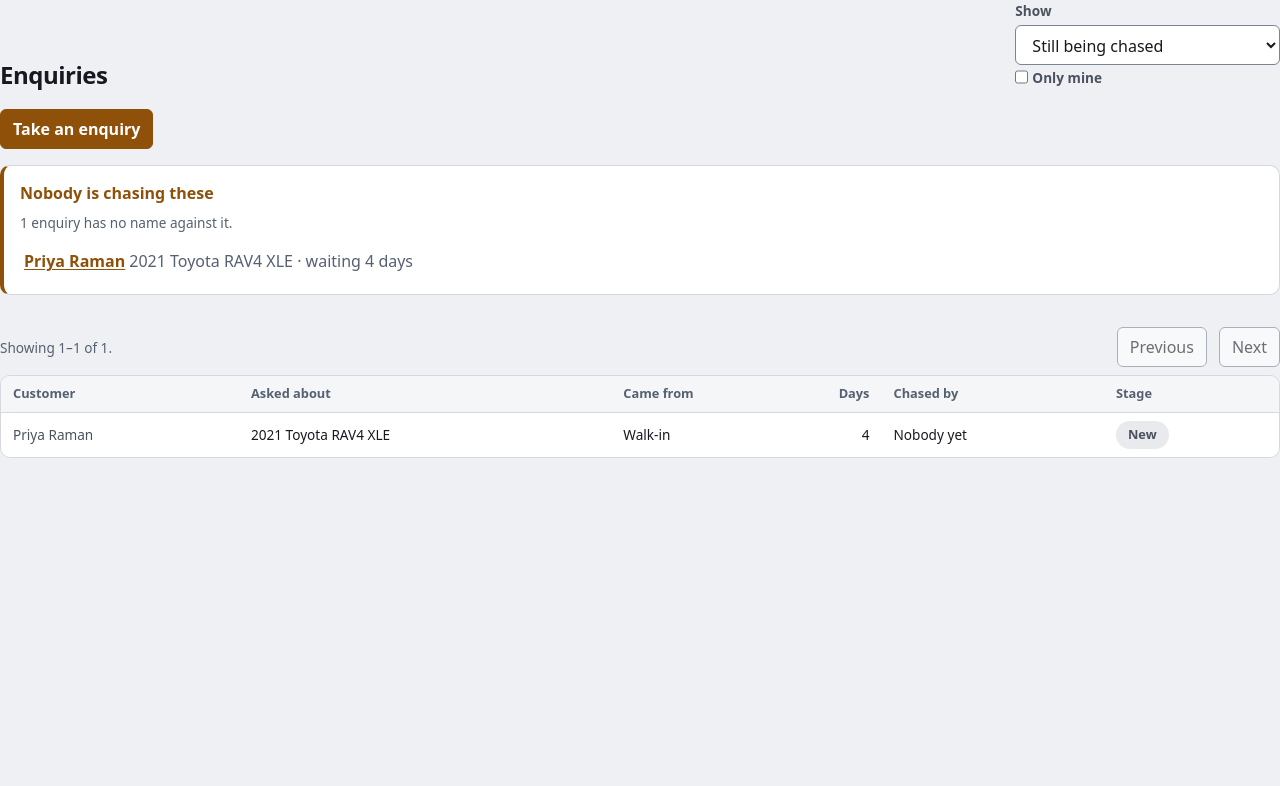
Scenario: handing an enquiry to a named colleague › draws no picker at all when the caller may not read the staff list
Expected: the table is shown, [1,376,1279,457]
Step 1. Click the button "Priya Raman" in the row of "Walk-in" → (120, 435), box [13,423,227,447]
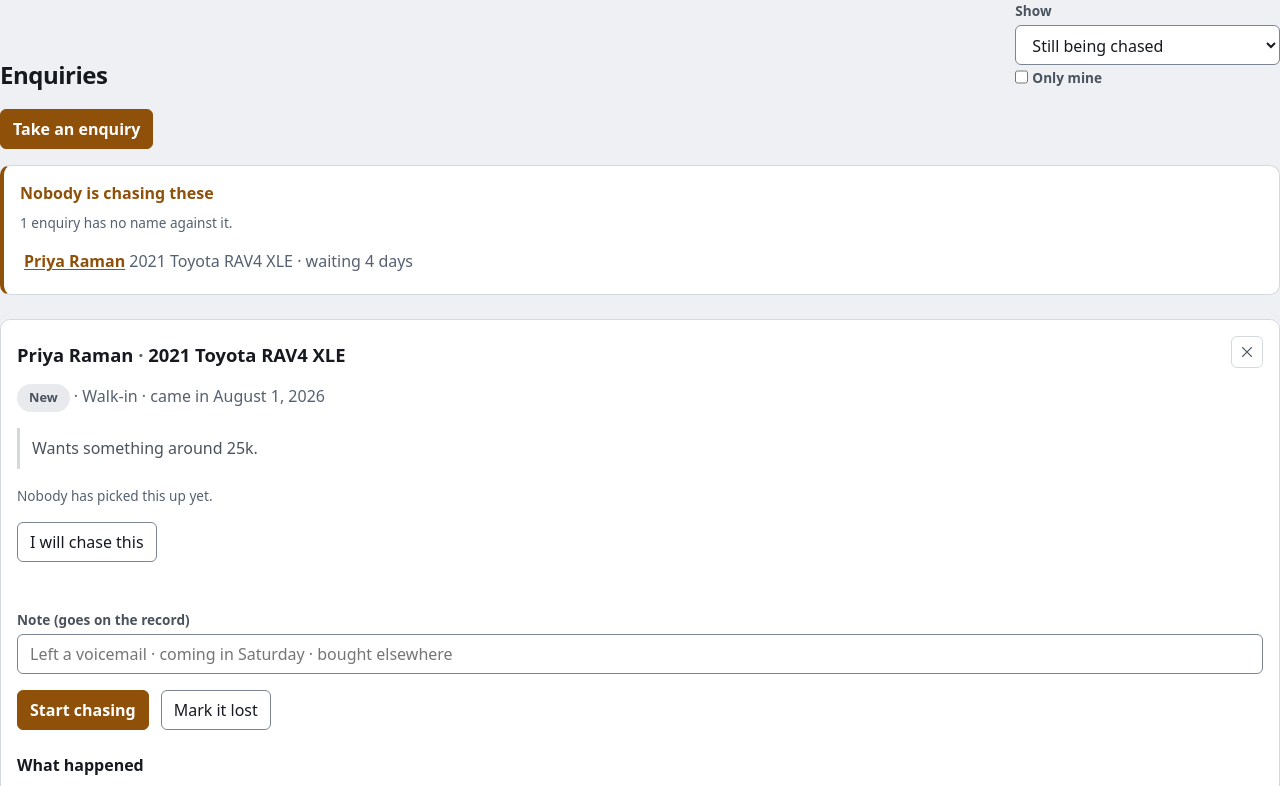
Expected: the button "I will chase this" is shown, [17,522,157,562]
